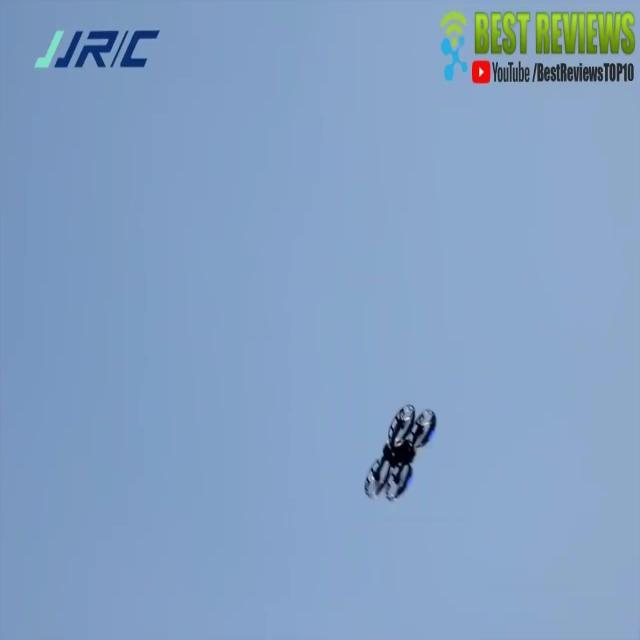drone: (362, 402, 436, 507)
